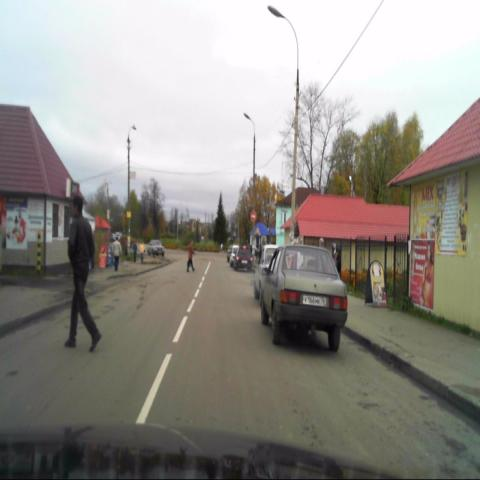3_1: (250, 209, 257, 221)
